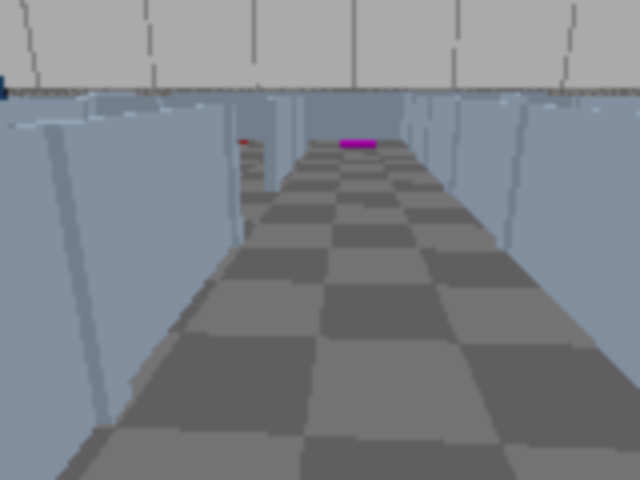person: (0, 0, 16, 214)
